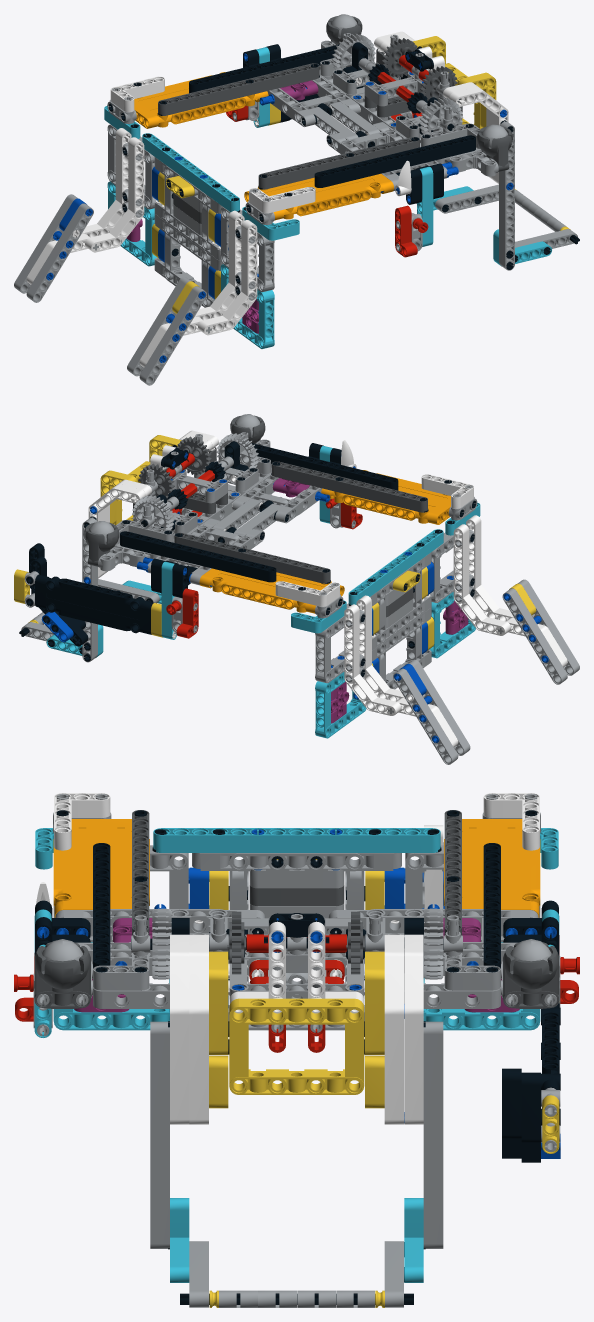
The model's file is eso6.glb.
3 renders of one model, top to bottom at view 1: azimuth 30°, elevation 25°; view 2: azimuth 150°, elevation 25°; view 3: azimuth 270°, elevation 25°, orthographic. The views are drawn at different scales.
Visible parts, largest first — view 1: Inner-Node-Aiello__platelminto___28_eso__m6_29__dot_io-320.0, Inner-Node-Aiello__platelminto___28_eso__m6_29__dot_io-322.0, Inner-Node-Aiello__platelminto___28_eso__m6_29__dot_io-0.001, Inner-Node-Aiello__platelminto___28_eso__m6_29__dot_io-1.001, Inner-Node-Aiello__platelminto___28_eso__m6_29__dot_io-321.0, Inner-Node-Aiello__platelminto___28_eso__m6_29__dot_io-70.00, Inner-Node-Aiello__platelminto___28_eso__m6_29__dot_io-88.00, Inner-Node-Aiello__platelminto___28_eso__m6_29__dot_io-12.00, Inner-Node-Aiello__platelminto___28_eso__m6_29__dot_io-28.00, Inner-Node-Aiello__platelminto___28_eso__m6_29__dot_io-2.001, Inner-Node-Aiello__platelminto___28_eso__m6_29__dot_io-319.0, Inner-Node-Aiello__platelminto___28_eso__m6_29__dot_io-107.0 (+38 smaller); view 2: Inner-Node-Aiello__platelminto___28_eso__m6_29__dot_io-157.0, Inner-Node-Aiello__platelminto___28_eso__m6_29__dot_io-319.0, Inner-Node-Aiello__platelminto___28_eso__m6_29__dot_io-321.0, Inner-Node-Aiello__platelminto___28_eso__m6_29__dot_io-1.001, Inner-Node-Aiello__platelminto___28_eso__m6_29__dot_io-0.001, Inner-Node-Aiello__platelminto___28_eso__m6_29__dot_io-320.0, Inner-Node-Aiello__platelminto___28_eso__m6_29__dot_io-61.00, Inner-Node-Aiello__platelminto___28_eso__m6_29__dot_io-81.00, Inner-Node-Aiello__platelminto___28_eso__m6_29__dot_io-2.001, Inner-Node-Aiello__platelminto___28_eso__m6_29__dot_io-322.0, Inner-Node-Aiello__platelminto___28_eso__m6_29__dot_io-28.00, Inner-Node-Aiello__platelminto___28_eso__m6_29__dot_io-12.00 (+43 smaller); view 3: Inner-Node-Aiello__platelminto___28_eso__m6_29__dot_io-277.0, Inner-Node-Aiello__platelminto___28_eso__m6_29__dot_io-2.001, Inner-Node-Aiello__platelminto___28_eso__m6_29__dot_io-0.001, Inner-Node-Aiello__platelminto___28_eso__m6_29__dot_io-1.001, Inner-Node-Aiello__platelminto___28_eso__m6_29__dot_io-28.00, Inner-Node-Aiello__platelminto___28_eso__m6_29__dot_io-294.0, Inner-Node-Aiello__platelminto___28_eso__m6_29__dot_io-295.0, Inner-Node-Aiello__platelminto___28_eso__m6_29__dot_io-270.0, Inner-Node-Aiello__platelminto___28_eso__m6_29__dot_io-272.0, Inner-Node-Aiello__platelminto___28_eso__m6_29__dot_io-268.0, Inner-Node-Aiello__platelminto___28_eso__m6_29__dot_io-271.0, Inner-Node-Aiello__platelminto___28_eso__m6_29__dot_io-196.0 (+60 smaller).
Part boxes in pixels (box(x1,y1,x2,y2)): Inner-Node-Aiello__platelminto___28_eso__m6_29__dot_io-320.0: box(158, 63, 319, 115); Inner-Node-Aiello__platelminto___28_eso__m6_29__dot_io-322.0: box(314, 135, 475, 187); Inner-Node-Aiello__platelminto___28_eso__m6_29__dot_io-0.001: box(244, 173, 393, 220); Inner-Node-Aiello__platelminto___28_eso__m6_29__dot_io-1.001: box(134, 72, 268, 128); Inner-Node-Aiello__platelminto___28_eso__m6_29__dot_io-321.0: box(258, 137, 419, 189); Inner-Node-Aiello__platelminto___28_eso__m6_29__dot_io-70.00: box(198, 220, 257, 335); Inner-Node-Aiello__platelminto___28_eso__m6_29__dot_io-88.00: box(85, 137, 144, 252); Inner-Node-Aiello__platelminto___28_eso__m6_29__dot_io-12.00: box(154, 214, 222, 307); Inner-Node-Aiello__platelminto___28_eso__m6_29__dot_io-28.00: box(154, 157, 223, 260); Inner-Node-Aiello__platelminto___28_eso__m6_29__dot_io-2.001: box(142, 133, 239, 211); Inner-Node-Aiello__platelminto___28_eso__m6_29__dot_io-319.0: box(189, 44, 339, 93); Inner-Node-Aiello__platelminto___28_eso__m6_29__dot_io-107.0: box(267, 75, 360, 126); Inner-Node-Aiello__platelminto___28_eso__m6_29__dot_io-157.0: box(35, 574, 154, 634); Inner-Node-Aiello__platelminto___28_eso__m6_29__dot_io-319.0: box(120, 531, 276, 582); Inner-Node-Aiello__platelminto___28_eso__m6_29__dot_io-321.0: box(271, 461, 427, 512); Inner-Node-Aiello__platelminto___28_eso__m6_29__dot_io-1.001: box(199, 568, 344, 613); Inner-Node-Aiello__platelminto___28_eso__m6_29__dot_io-0.001: box(321, 470, 450, 524); Inner-Node-Aiello__platelminto___28_eso__m6_29__dot_io-320.0: box(174, 532, 330, 583); Inner-Node-Aiello__platelminto___28_eso__m6_29__dot_io-61.00: box(453, 524, 511, 635); Inner-Node-Aiello__platelminto___28_eso__m6_29__dot_io-81.00: box(344, 604, 401, 715); Inner-Node-Aiello__platelminto___28_eso__m6_29__dot_io-2.001: box(348, 529, 443, 604); Inner-Node-Aiello__platelminto___28_eso__m6_29__dot_io-322.0: box(251, 443, 398, 490); Inner-Node-Aiello__platelminto___28_eso__m6_29__dot_io-28.00: box(370, 552, 431, 650); Inner-Node-Aiello__platelminto___28_eso__m6_29__dot_io-12.00: box(372, 607, 431, 689); Inner-Node-Aiello__platelminto___28_eso__m6_29__dot_io-277.0: box(229, 998, 364, 1094); Inner-Node-Aiello__platelminto___28_eso__m6_29__dot_io-2.001: box(153, 828, 440, 852); Inner-Node-Aiello__platelminto___28_eso__m6_29__dot_io-0.001: box(53, 819, 149, 917); Inner-Node-Aiello__platelminto___28_eso__m6_29__dot_io-1.001: box(444, 819, 540, 917); Inner-Node-Aiello__platelminto___28_eso__m6_29__dot_io-28.00: box(192, 853, 401, 909); Inner-Node-Aiello__platelminto___28_eso__m6_29__dot_io-294.0: box(423, 1021, 443, 1248); Inner-Node-Aiello__platelminto___28_eso__m6_29__dot_io-295.0: box(150, 1021, 169, 1248); Inner-Node-Aiello__platelminto___28_eso__m6_29__dot_io-270.0: box(404, 934, 423, 1124); Inner-Node-Aiello__platelminto___28_eso__m6_29__dot_io-272.0: box(189, 934, 208, 1124); Inner-Node-Aiello__platelminto___28_eso__m6_29__dot_io-268.0: box(384, 934, 403, 1124); Inner-Node-Aiello__platelminto___28_eso__m6_29__dot_io-271.0: box(170, 934, 189, 1124); Inner-Node-Aiello__platelminto___28_eso__m6_29__dot_io-196.0: box(34, 942, 90, 1008).
Size of the model in its own units: 34.6 by 13.77 by 23.19.
